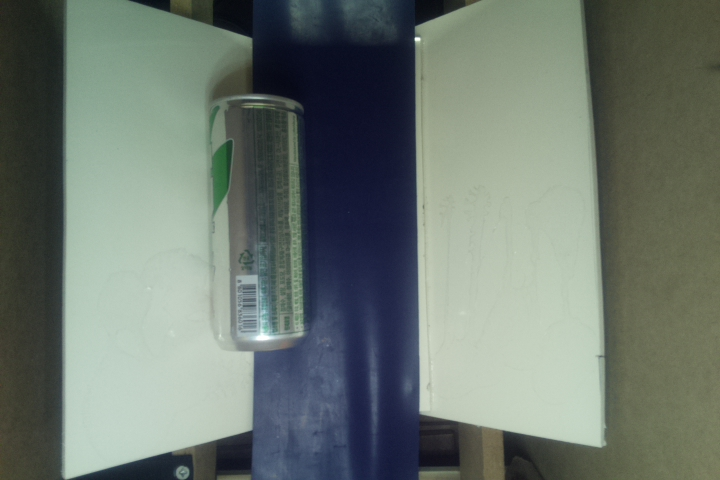can: (208, 93, 311, 355)
